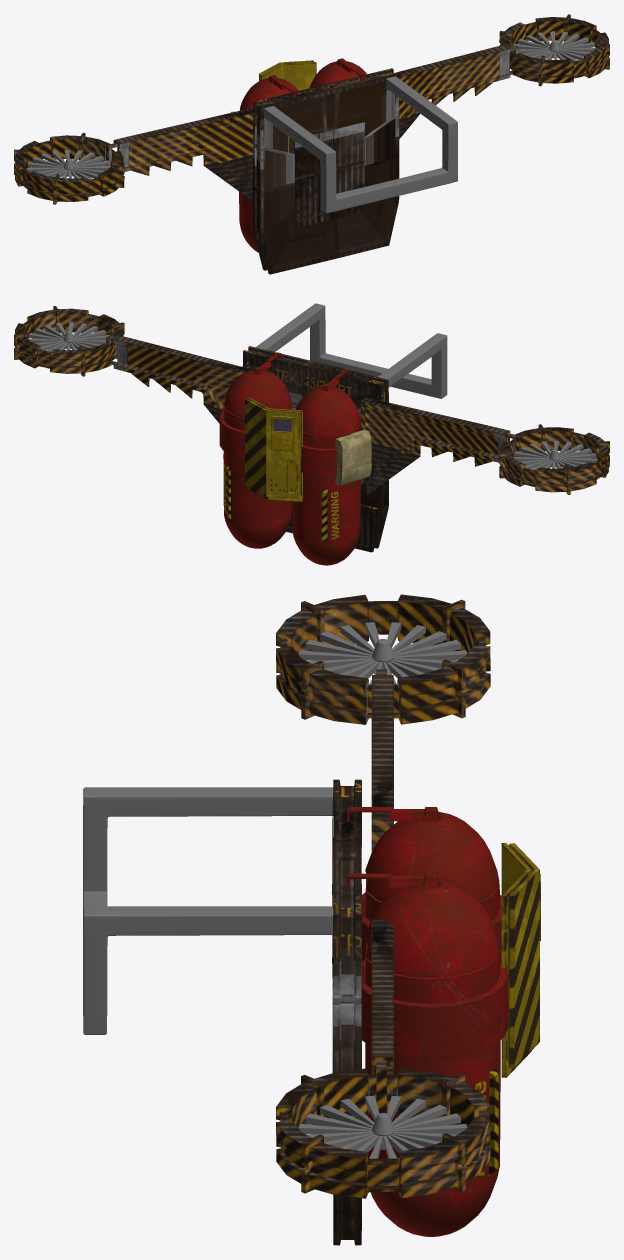
The model's file is MSH_Jetpack.fbx.
3 views of the same model, one above another, from view 1: azimuth 30°, elevation 25°; view 2: azimuth 150°, elevation 25°; view 3: azimuth 270°, elevation 25° (orthographic). The views are drawn at different scales.
Parts seen in each view (by area): view 1: MSH_Jetpack; view 2: MSH_Jetpack; view 3: MSH_Jetpack.
Boxes of the visible parts, left/top/right/bottom form: MSH_Jetpack: left=14, top=14, right=609, bottom=274; MSH_Jetpack: left=14, top=303, right=609, bottom=565; MSH_Jetpack: left=83, top=594, right=540, bottom=1245.
Bounding box in the file's own units: 21.77 × 6.41 × 7.46.
